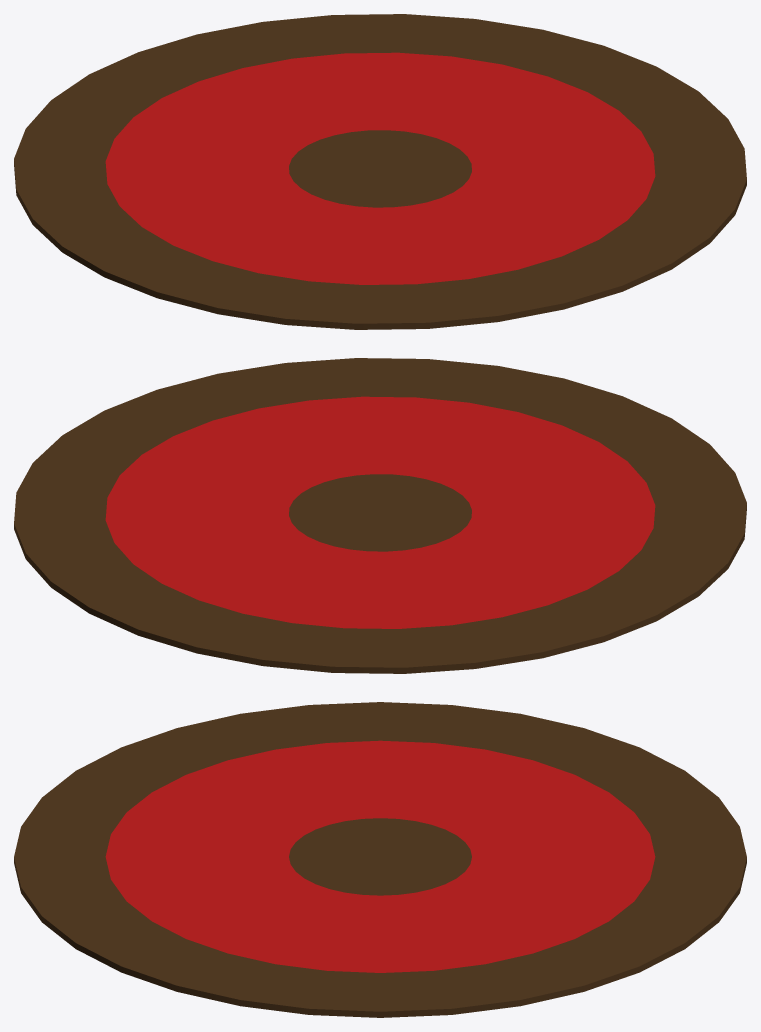
Rendered from rug_virginia.fbx.
3 views of the same model, one above another, from view 1: azimuth 30°, elevation 25°; view 2: azimuth 150°, elevation 25°; view 3: azimuth 270°, elevation 25° (orthographic).
Visible parts, largest first — view 1: rug; view 2: rug; view 3: rug.
Boxes of the visible parts, left/top/right/bottom form: rug: left=14, top=14, right=746, bottom=329; rug: left=14, top=358, right=746, bottom=673; rug: left=14, top=702, right=746, bottom=1017.
Bounding box in the file's own units: 34.64 × 0.3225 × 34.64.
1 material, 1 textured.
